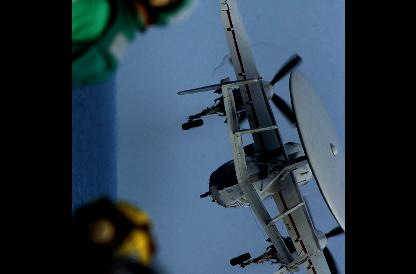C5: (173, 0, 346, 273)
